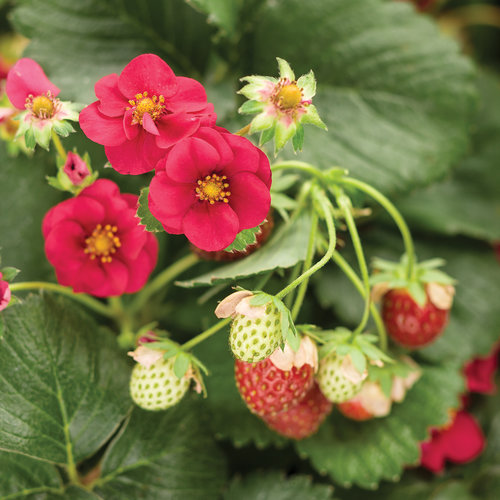ripe_strawberry: (233, 333, 318, 418), (381, 280, 451, 349), (261, 379, 334, 440), (336, 395, 377, 421)
unripe_strawberry: (229, 294, 291, 365), (130, 340, 191, 412), (314, 338, 368, 403)
